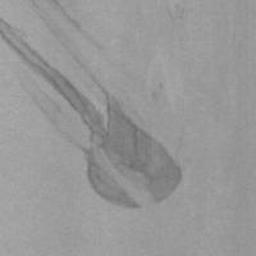Water spot: (0, 0, 189, 210)
